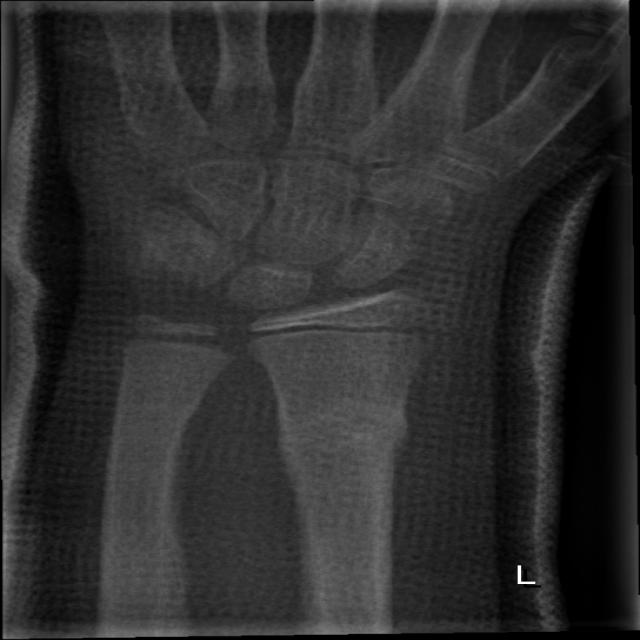radius fracture: (240, 365, 447, 524)
